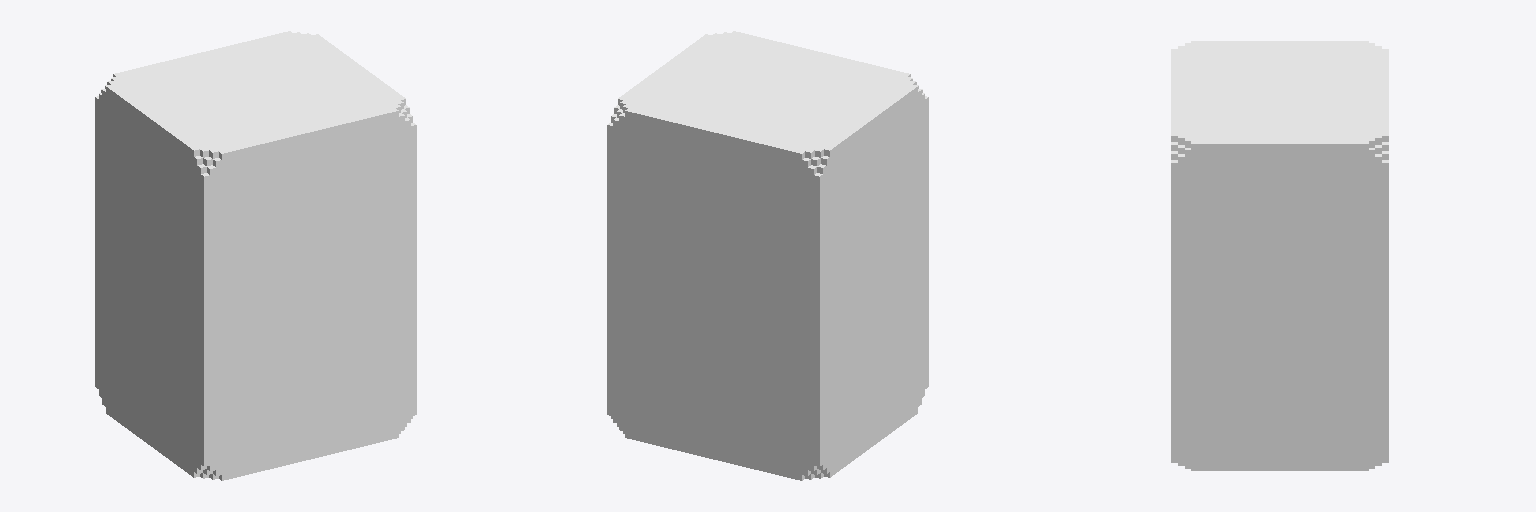
File: Man-0.obj
3 renders of one model, left to right at view 1: azimuth 30°, elevation 25°; view 2: azimuth 150°, elevation 25°; view 3: azimuth 270°, elevation 25°, orthographic.
Visible parts, largest first — view 1: object 1; view 2: object 1; view 3: object 1.
Boxes of the visible parts, x1=… form: object 1: x1=95, y1=31, x2=416, y2=480; object 1: x1=607, y1=31, x2=928, y2=480; object 1: x1=1171, y1=41, x2=1388, y2=470.
Size of the model in its own units: 3.6 by 5.3 by 3.2.